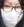with_mask: (1, 1, 24, 27)
